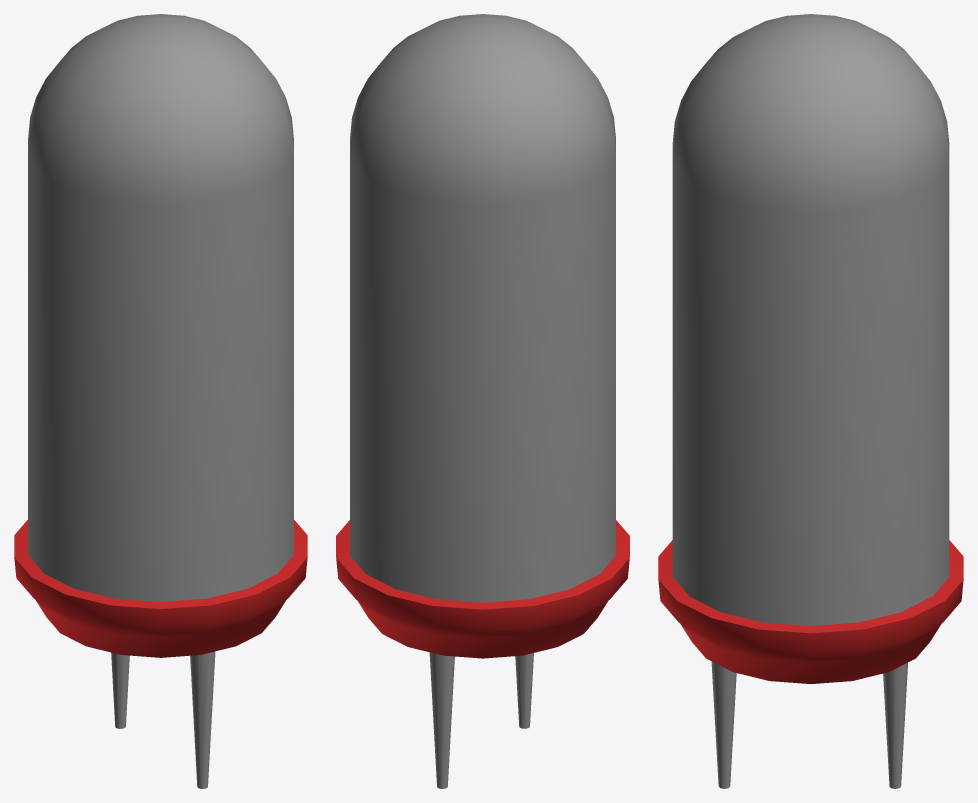
The picture shows the model from 3 angles, left to right: view 1: azimuth 30°, elevation 25°; view 2: azimuth 150°, elevation 25°; view 3: azimuth 270°, elevation 25°; orthographic projection. The views are drawn at different scales.
Visible parts, largest first — view 1: Capsule001, Cylinder003, Cylinder004; view 2: Capsule001, Cylinder004, Cylinder003; view 3: Capsule001, Cylinder003, Cylinder004.
Part boxes in pixels (x1,y1,x2,y2): Capsule001: [14, 14, 307, 657]; Cylinder003: [190, 651, 215, 788]; Cylinder004: [111, 652, 129, 728]; Capsule001: [336, 14, 629, 658]; Cylinder004: [429, 652, 454, 788]; Cylinder003: [515, 653, 533, 728]; Capsule001: [658, 14, 963, 683]; Cylinder003: [711, 661, 736, 788]; Cylinder004: [883, 662, 907, 788].
Size of the model in its own units: 4.21 by 11.37 by 4.14.
